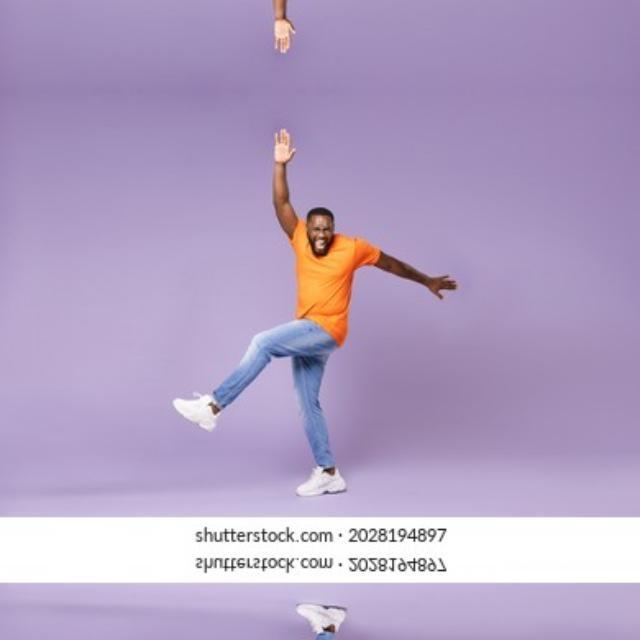person: (203, 133, 374, 410), (203, 0, 374, 47)
